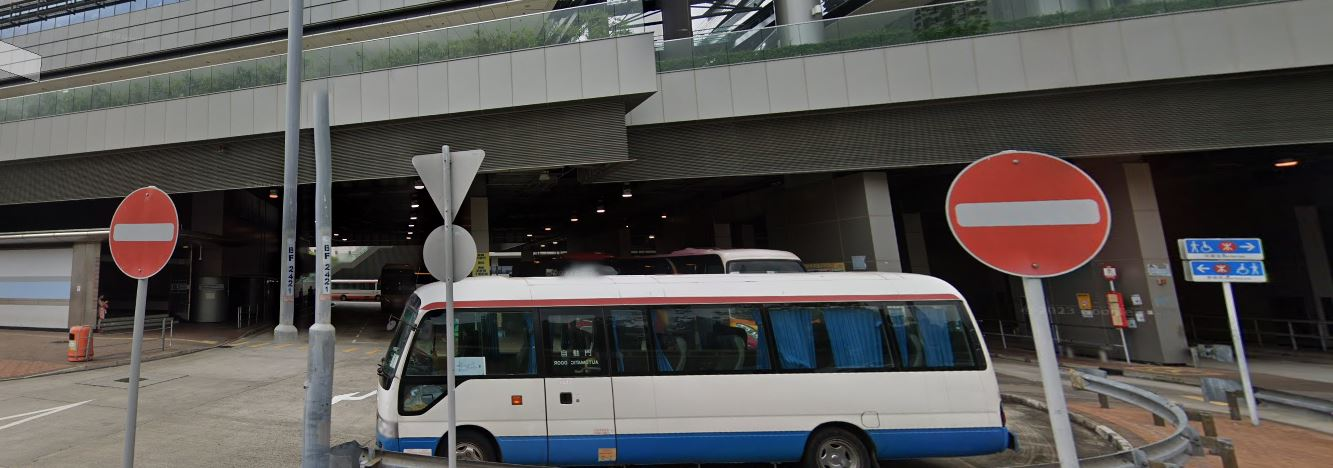No Enter: (948, 146, 1123, 280), (104, 182, 178, 283)
